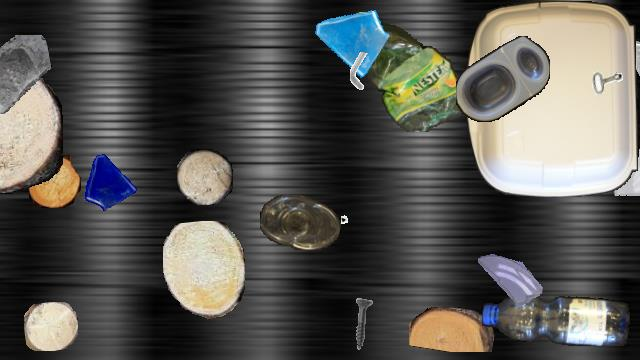glass: (311, 1, 389, 79), (478, 248, 542, 312), (0, 35, 51, 113), (79, 151, 139, 211), (612, 132, 640, 214), (624, 41, 640, 97)
metal: (573, 41, 633, 101), (334, 297, 390, 353), (340, 52, 380, 92), (341, 206, 379, 244)
plastic: (466, 1, 638, 197), (336, 12, 466, 132), (456, 36, 550, 122), (482, 292, 630, 346), (260, 195, 340, 249)
wood: (0, 61, 63, 193), (163, 221, 245, 319), (409, 307, 495, 351), (177, 149, 233, 205), (28, 155, 80, 207), (24, 302, 78, 350)
